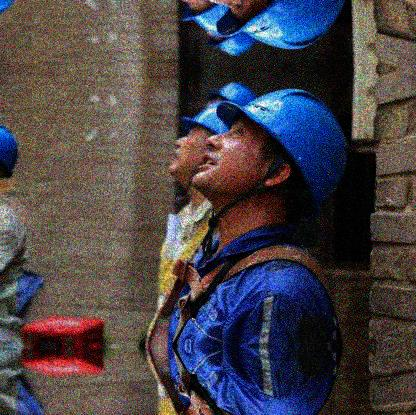helmet: (192, 86, 351, 223), (167, 99, 237, 204), (217, 1, 346, 51)
